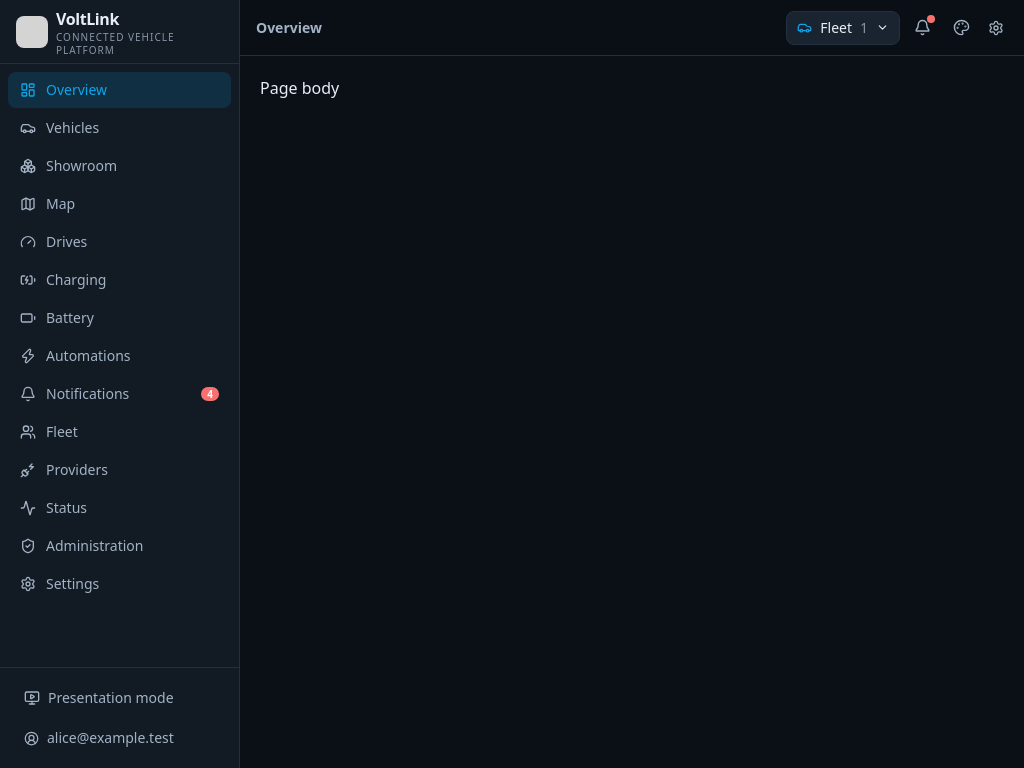
Test: Shell page › navigates between shell sections from the sidebar
Step 1. Click the link "Charging" → (63, 280), box [20, 270, 106, 289]
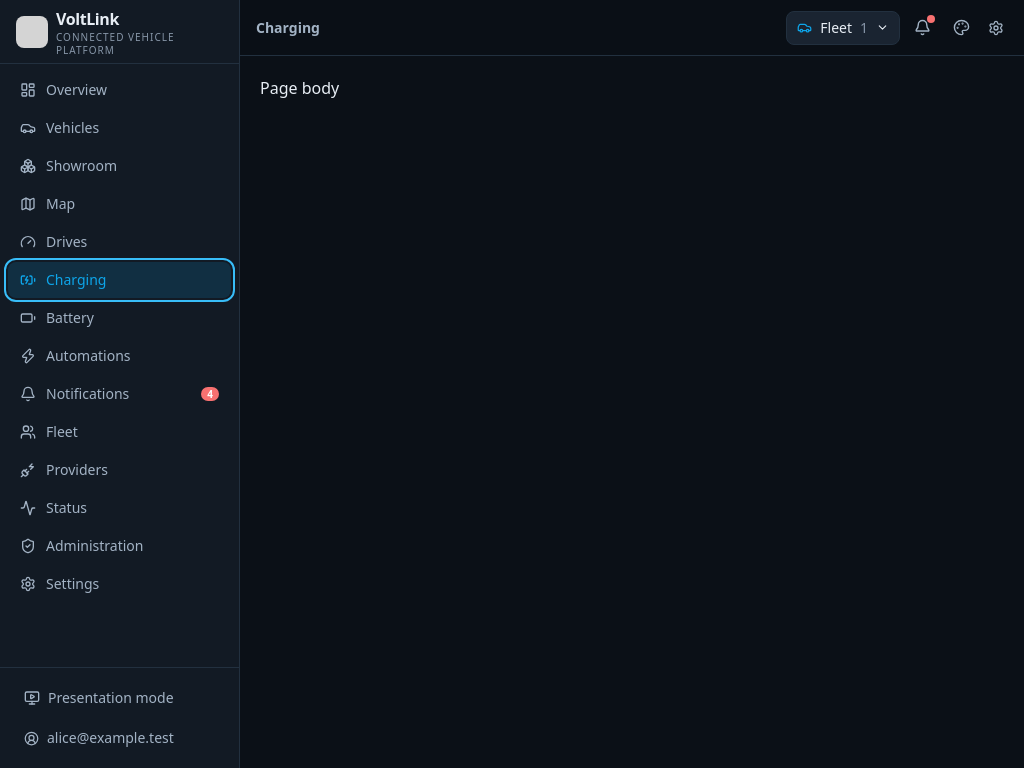
Expected: the heading "Charging" is shown, [256, 18, 320, 38]
